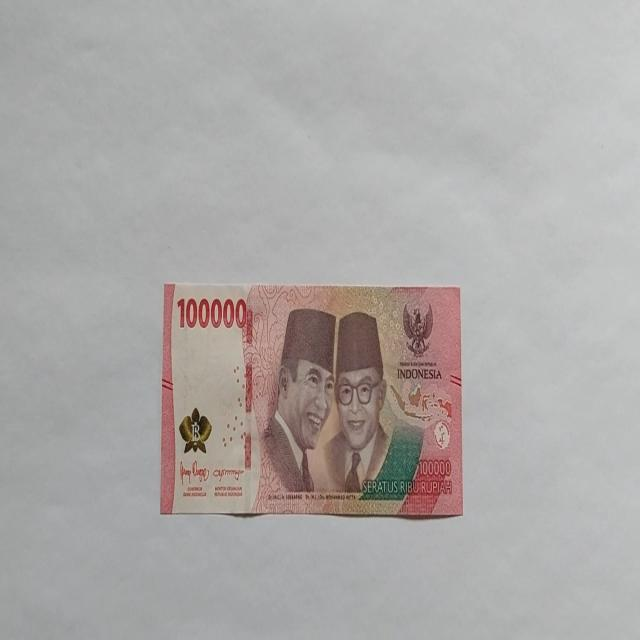seratus ribu rupiah: (160, 280, 463, 518), (257, 306, 336, 506)
